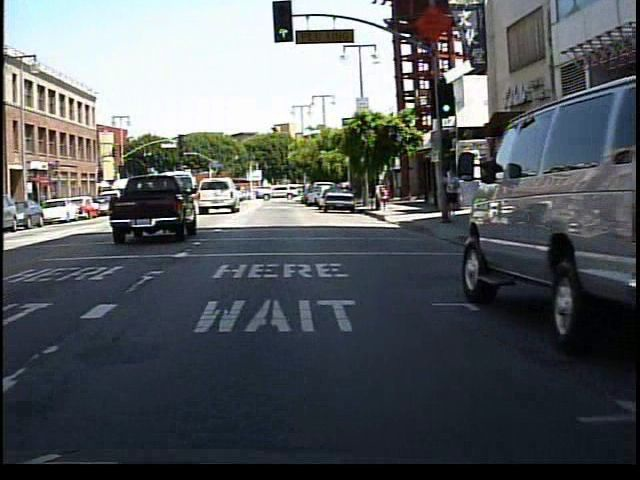person: (441, 163, 464, 222)
